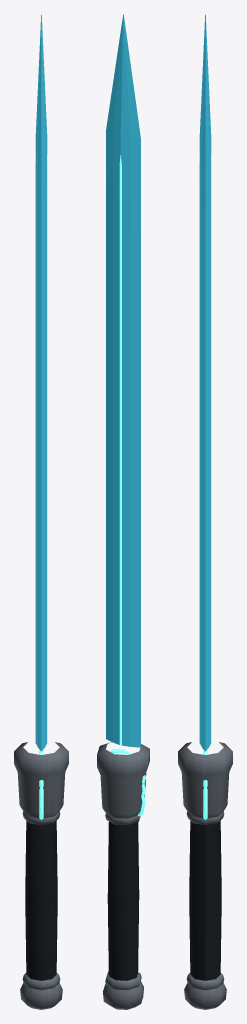
Rendered from light-blade.lod2.glb.
3 renders of one model, left to right at view 1: azimuth 90°, elevation 25°; view 2: azimuth 150°, elevation 25°; view 3: azimuth 270°, elevation 25°, orthographic.
Visible parts, largest first — view 1: crystal / faceted crystal, polymer / stippled polymer, alloy / machined anodized alloy, energy / emissive field channel; view 2: crystal / faceted crystal, polymer / stippled polymer, alloy / machined anodized alloy, energy / emissive field channel; view 3: crystal / faceted crystal, polymer / stippled polymer, alloy / machined anodized alloy, energy / emissive field channel.
Boxes of the visible parts, x1,y1,x2,y2 form: crystal / faceted crystal: [35, 14, 47, 751]; polymer / stippled polymer: [25, 821, 57, 980]; alloy / machined anodized alloy: [14, 742, 68, 1009]; energy / emissive field channel: [35, 155, 47, 819]; crystal / faceted crystal: [106, 14, 140, 747]; polymer / stippled polymer: [107, 821, 139, 980]; alloy / machined anodized alloy: [97, 742, 149, 1009]; energy / emissive field channel: [101, 155, 145, 816]; crystal / faceted crystal: [199, 14, 211, 751]; polymer / stippled polymer: [189, 821, 221, 980]; alloy / machined anodized alloy: [178, 742, 232, 1009]; energy / emissive field channel: [199, 155, 211, 819].
Size of the model in its own units: 0.06 by 1.19 by 0.06.
Materials: 5 (2 with a texture image).
